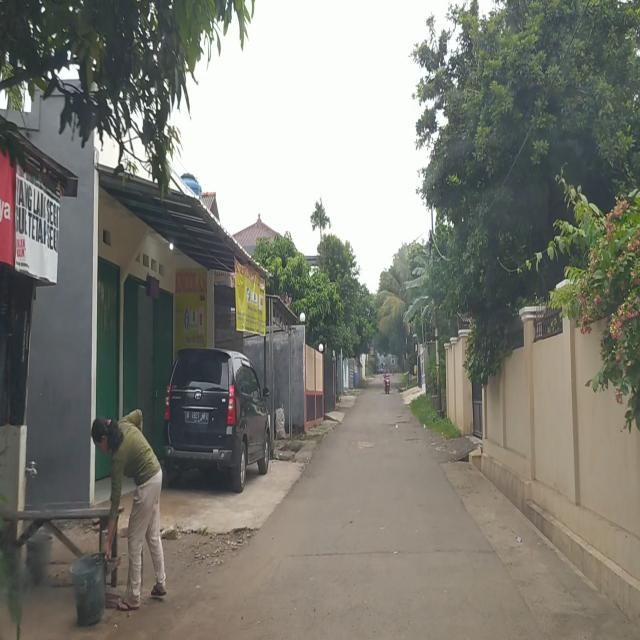Sewer Cover: (282, 546, 497, 557)
